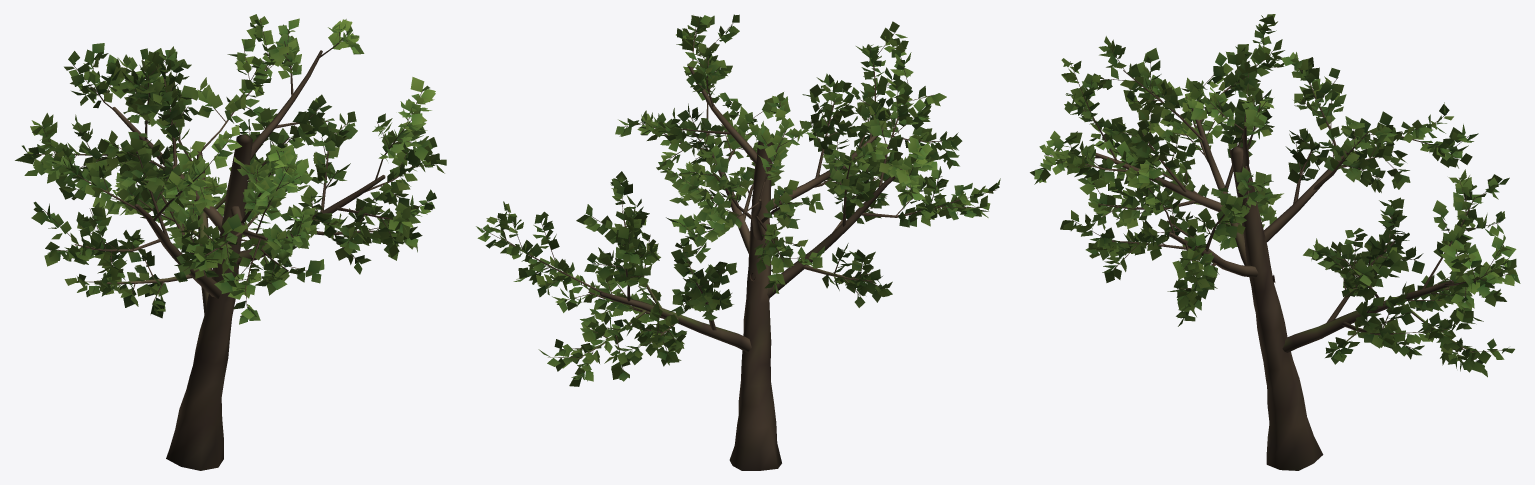
File: oak-c.lod0.glb
The picture shows the model from 3 angles, left to right: view 1: azimuth 30°, elevation 25°; view 2: azimuth 150°, elevation 25°; view 3: azimuth 270°, elevation 25°; orthographic projection. The views are drawn at different scales.
Bounding box in the file's own units: 8.83 × 9.13 × 9.72.
